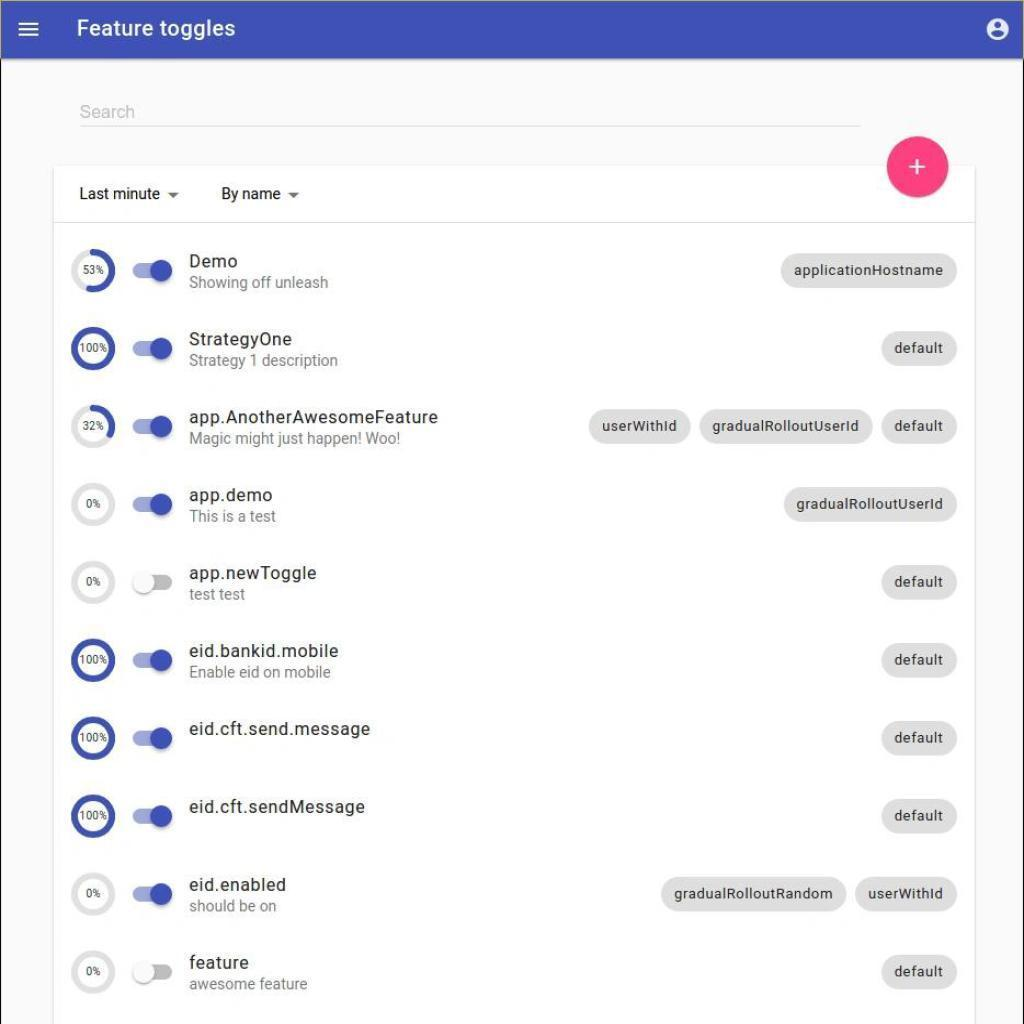button: (882, 329, 961, 367), (885, 563, 959, 602), (881, 719, 958, 756), (882, 796, 955, 835), (884, 408, 959, 445), (884, 952, 959, 989), (881, 643, 959, 678)
icon: (887, 137, 951, 201), (15, 17, 47, 49), (985, 16, 1015, 49), (284, 187, 309, 212), (165, 188, 180, 207)
label: (73, 180, 163, 211), (221, 183, 282, 211)
switch: (126, 484, 178, 530), (124, 251, 184, 288), (128, 952, 179, 994), (126, 878, 180, 917), (126, 642, 183, 677), (123, 406, 175, 444), (126, 563, 180, 599), (128, 721, 178, 757), (126, 332, 176, 366), (128, 796, 172, 831)
